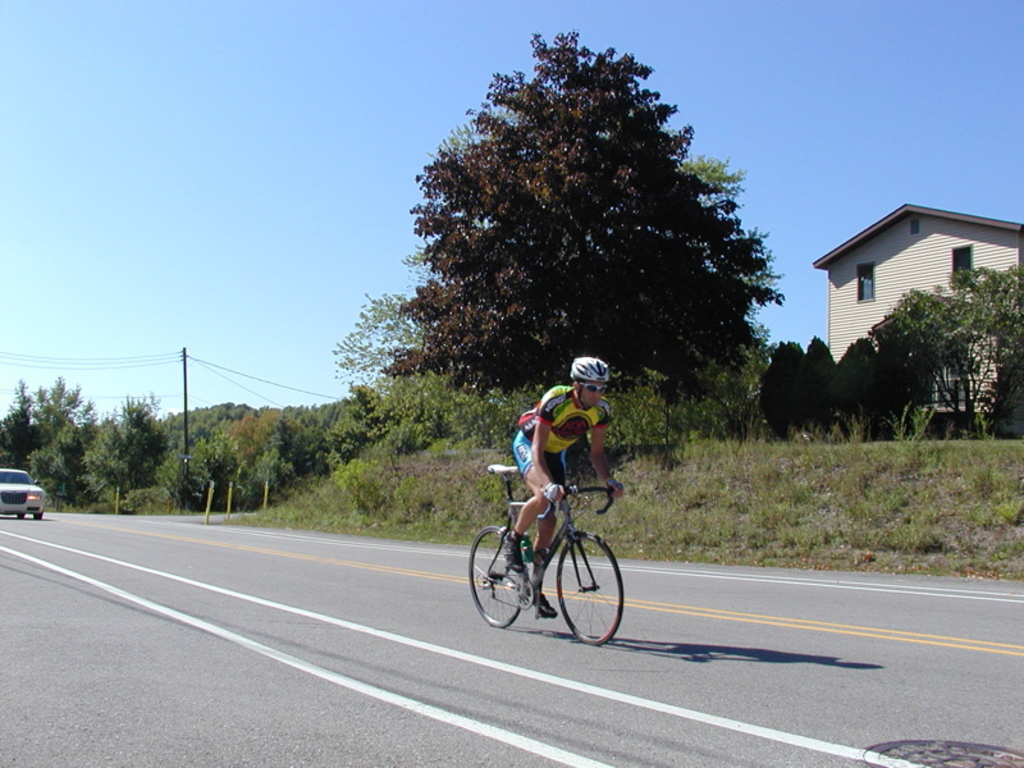Bike: (445, 469, 618, 626)
